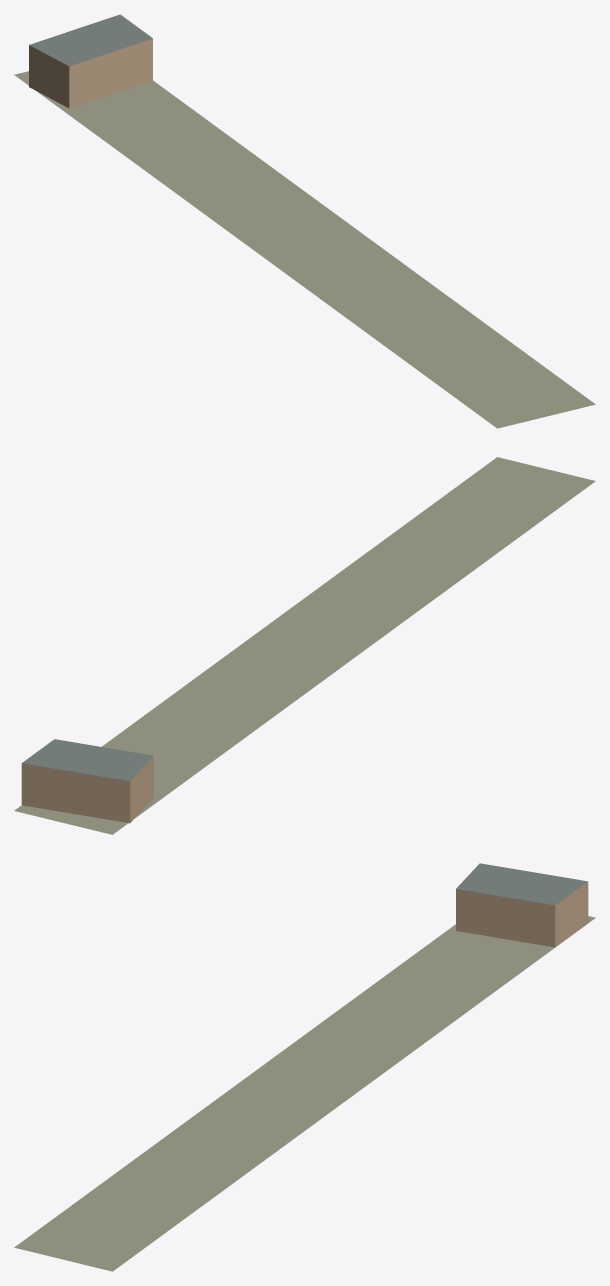
File: sector-3_0.glb
3 renders of one model, top to bottom at view 1: azimuth 30°, elevation 25°; view 2: azimuth 150°, elevation 25°; view 3: azimuth 330°, elevation 25°, orthographic.
Parts seen in each view (by area): view 1: 3:0-ground, 3:0-facade, 3:0-roof; view 2: 3:0-ground, 3:0-facade, 3:0-roof; view 3: 3:0-ground, 3:0-facade, 3:0-roof.
Part boxes in pixels (x1=…): 3:0-ground: x1=14, y1=71, x2=595, y2=428; 3:0-facade: x1=29, y1=38, x2=152, y2=108; 3:0-roof: x1=29, y1=14, x2=152, y2=66; 3:0-ground: x1=14, y1=457, x2=595, y2=834; 3:0-facade: x1=21, y1=756, x2=153, y2=823; 3:0-roof: x1=22, y1=739, x2=153, y2=781; 3:0-ground: x1=14, y1=916, x2=595, y2=1271; 3:0-facade: x1=456, y1=881, x2=588, y2=947; 3:0-roof: x1=456, y1=863, x2=587, y2=905.
Size of the model in its own units: 23.88 by 9.6 by 200.
